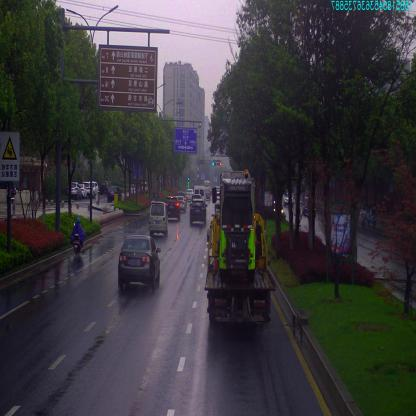traffic-light: (210, 161, 217, 167), (217, 162, 223, 166)
